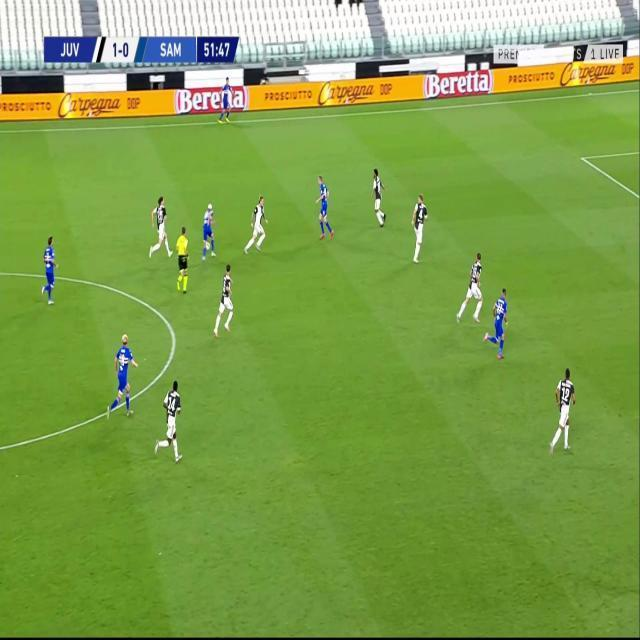ball: (206, 241, 211, 250)
player: (547, 366, 578, 457), (108, 331, 139, 419), (154, 378, 184, 465), (456, 250, 485, 327), (483, 291, 509, 359), (213, 262, 236, 338), (147, 194, 172, 263), (243, 194, 270, 256), (39, 234, 60, 307), (315, 173, 334, 243), (411, 191, 429, 264), (370, 167, 387, 228), (201, 199, 217, 261), (219, 75, 234, 124)
referee: (174, 224, 192, 294)
